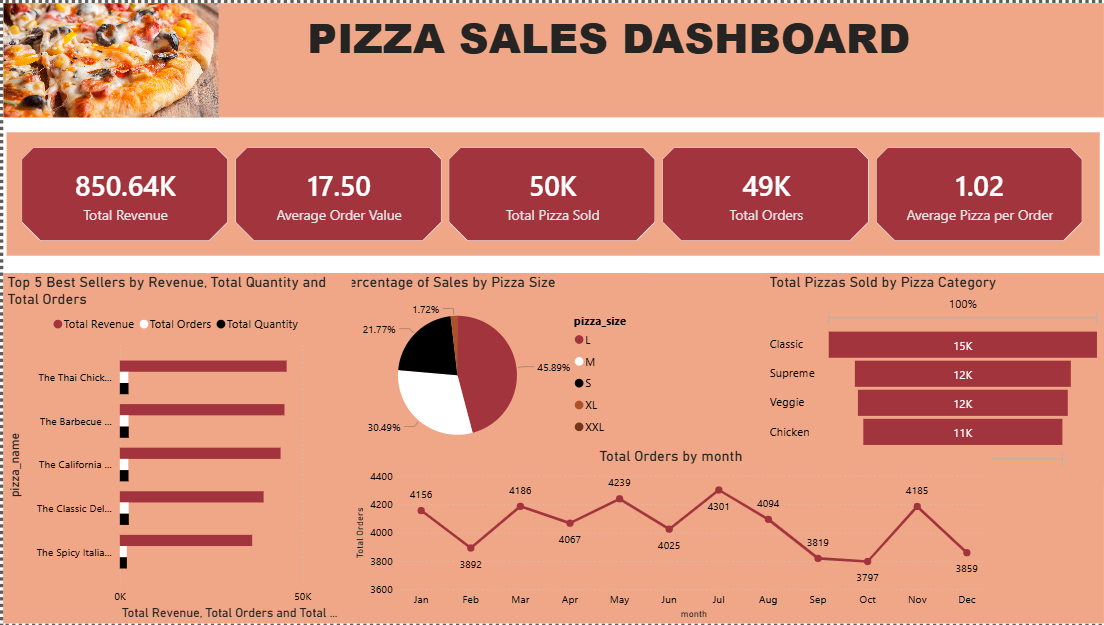

Layout of this report page (visuals, bound fields, positions):
{"tool":"powerbi","page":{"name":"Page 2","canvas":[1280,720],"ordinal":1},"visuals":[{"type":"textbox","box":[0,313,1278.3,406.5],"z":0},{"type":"pieChart","title":"Percentage of Sales by Pizza Size","fields":{"Y":["Sum(pizza_sales (1).Sales)"],"Category":["pizza_sales (1).pizza_size"]},"box":[387.4,313.7,360.9,217.3],"z":1000},{"type":"clusteredBarChart","title":"Top 5 Best Sellers by Revenue, Total Quantity and Total Orders","fields":{"Category":["pizza_sales (1).pizza_name"],"Y":["DB Measures.Total Revenue","DB Measures.Total Orders","DB Measures.Total Quantity"]},"box":[0,313.7,404.4,406.3],"z":2000},{"type":"funnel","title":"Total Pizzas Sold by Pizza Category","fields":{"Category":["pizza_sales (1).pizza_category"],"Y":["Sum(pizza_sales (1).quantity)"]},"box":[884.4,313.7,395,247.6],"z":3000},{"type":"textbox","box":[0,0,1278.3,132.6],"z":4000},{"type":"cardVisual","fields":{"Data":["DB Measures.Total Revenue","DB Measures.Average Order Value","DB Measures.Total Pizza Sold","DB Measures.Total Orders","DB Measures.Average Pizza per Order"]},"box":[4.3,150,1269.6,143.5],"z":5000},{"type":"image","box":[0,0,250,132.6],"z":6000},{"type":"lineChart","fields":{"Y":["DB Measures.Total Orders"],"Category":["Date Table.month"]},"box":[404.4,515.9,742.7,204.1],"z":7000}]}

Visuals, with their boxes in screenshot pixels (x1, y1, x2, y2), scaled from the page's 1280x720 canvas onto the 1104x625 screenshot:
textbox: [x1=0, y1=272, x2=1103, y2=624]
"Percentage of Sales by Pizza Size" pieChart: [x1=334, y1=272, x2=645, y2=461]
"Top 5 Best Sellers by Revenue, Total Quantity and Total Orders" clusteredBarChart: [x1=0, y1=272, x2=349, y2=624]
"Total Pizzas Sold by Pizza Category" funnel: [x1=763, y1=272, x2=1103, y2=487]
textbox: [x1=0, y1=0, x2=1103, y2=115]
cardVisual - DB Measures.Total Revenue x DB Measures.Average Order Value: [x1=4, y1=130, x2=1099, y2=255]
image: [x1=0, y1=0, x2=216, y2=115]
lineChart - DB Measures.Total Orders x Date Table.month: [x1=349, y1=448, x2=989, y2=624]
